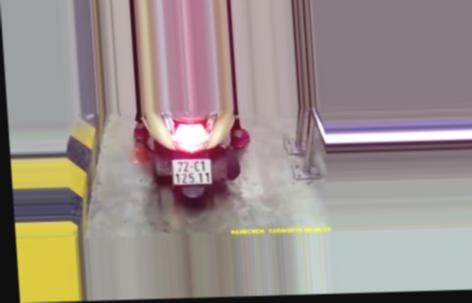License_Plate: (171, 157, 215, 188)
